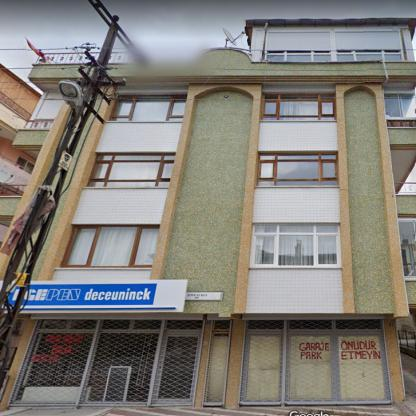door: (150, 331, 200, 408)
window: (63, 227, 159, 266), (252, 224, 339, 266), (86, 154, 174, 186), (258, 154, 337, 185), (262, 95, 334, 120), (110, 98, 186, 121), (262, 50, 402, 62), (398, 221, 416, 276), (384, 92, 416, 118), (14, 157, 34, 172)
